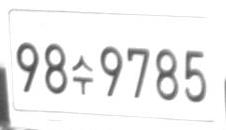5: (184, 50, 206, 102)
7: (127, 47, 150, 98)
8: (43, 42, 67, 94), (155, 48, 178, 100)
9: (99, 45, 123, 97), (16, 41, 39, 92)
수: (71, 54, 93, 95)
